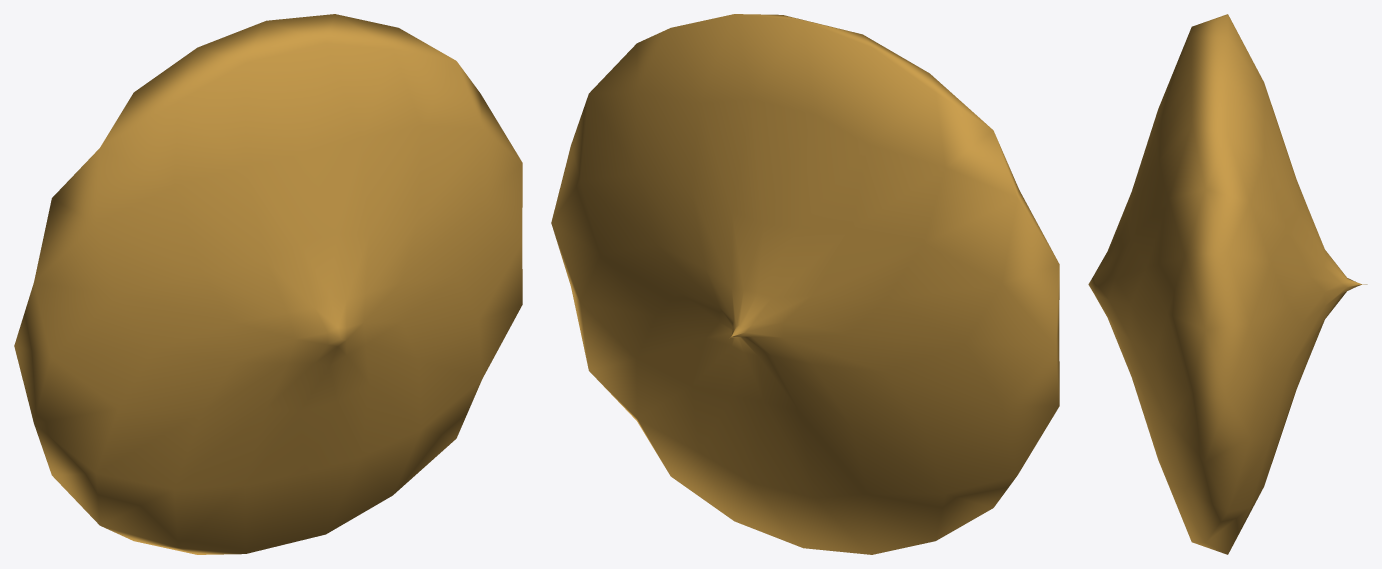
Rendered from bag_b.obj.
3 views of the same model, side by side, from view 1: azimuth 30°, elevation 25°; view 2: azimuth 150°, elevation 25°; view 3: azimuth 270°, elevation 25° (orthographic). The views are drawn at different scales.
Parts seen in each view (by area): view 1: bag_b; view 2: bag_b; view 3: bag_b.
Part boxes in pixels (x1,y1,x2,y2): bag_b: (14,14,522,554); bag_b: (551,14,1059,554); bag_b: (1088,14,1367,554).
Size of the model in its own units: 1.95 by 1.95 by 1.
